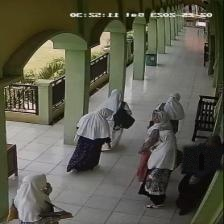Cadar_Niqab: (181, 133, 223, 170)
